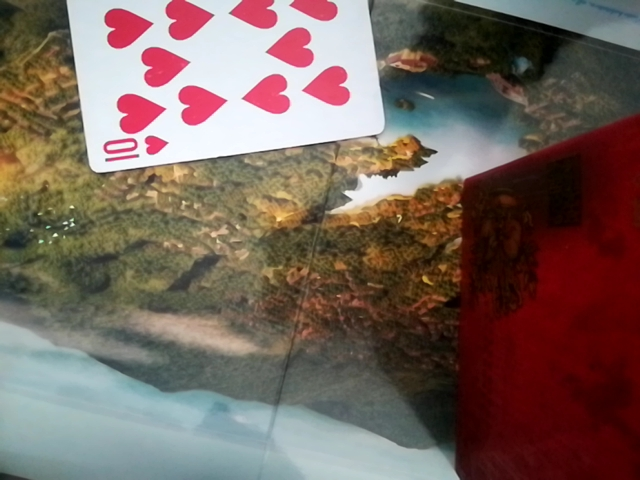hx 10: (54, 0, 383, 174)
